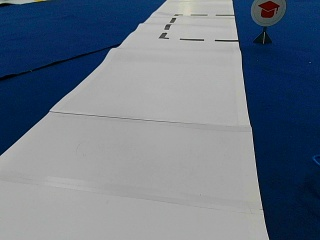school: (250, 1, 286, 25)
